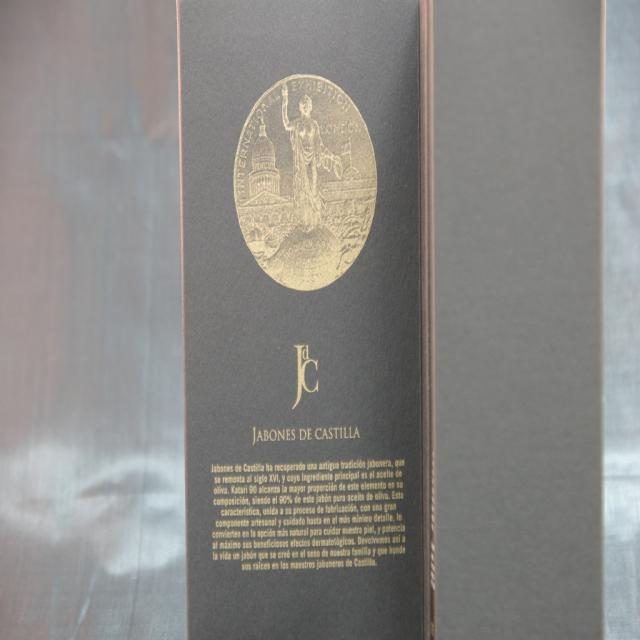Coin: (233, 73, 378, 291)
